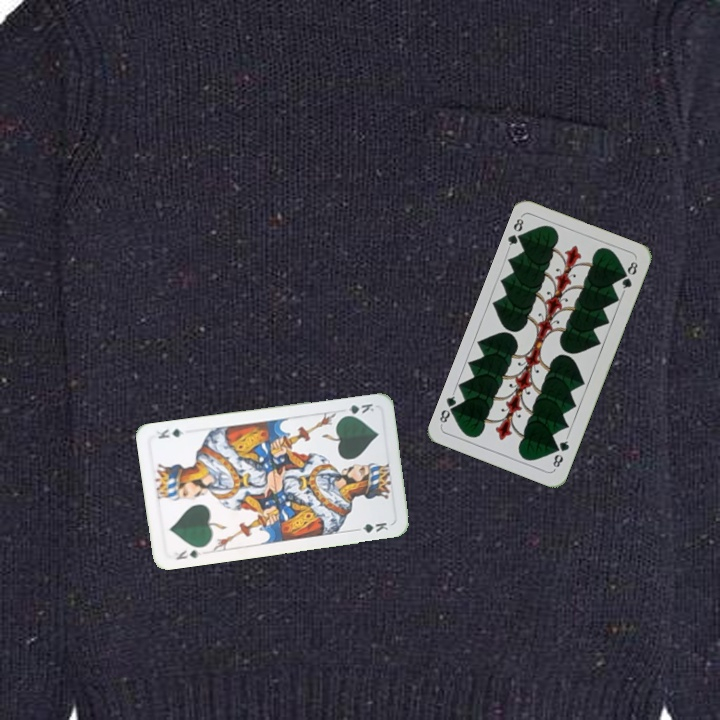G8: (504, 213, 528, 252), (549, 433, 572, 472)
GK: (338, 399, 377, 419), (172, 546, 204, 562)
